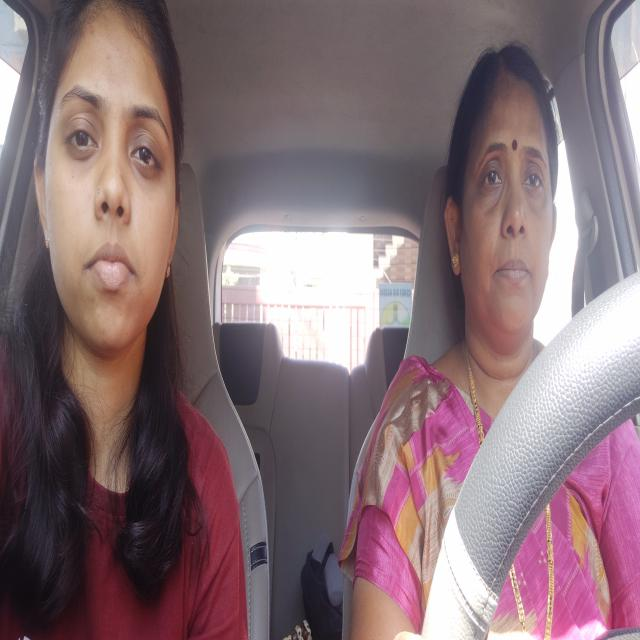person: (42, 2, 183, 354), (454, 51, 557, 346)
